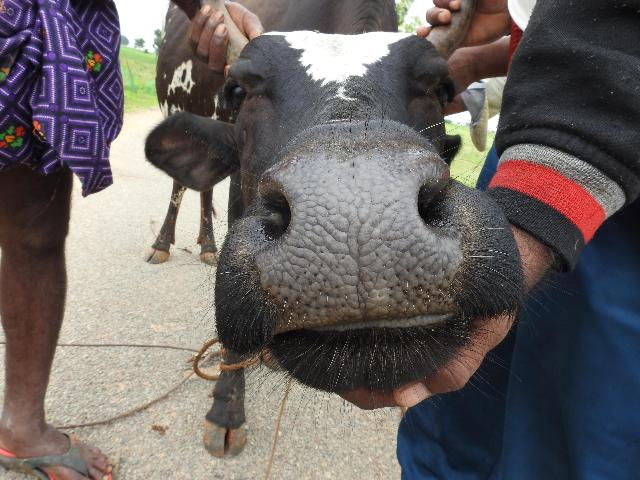Muzzle: (274, 167, 452, 310)
